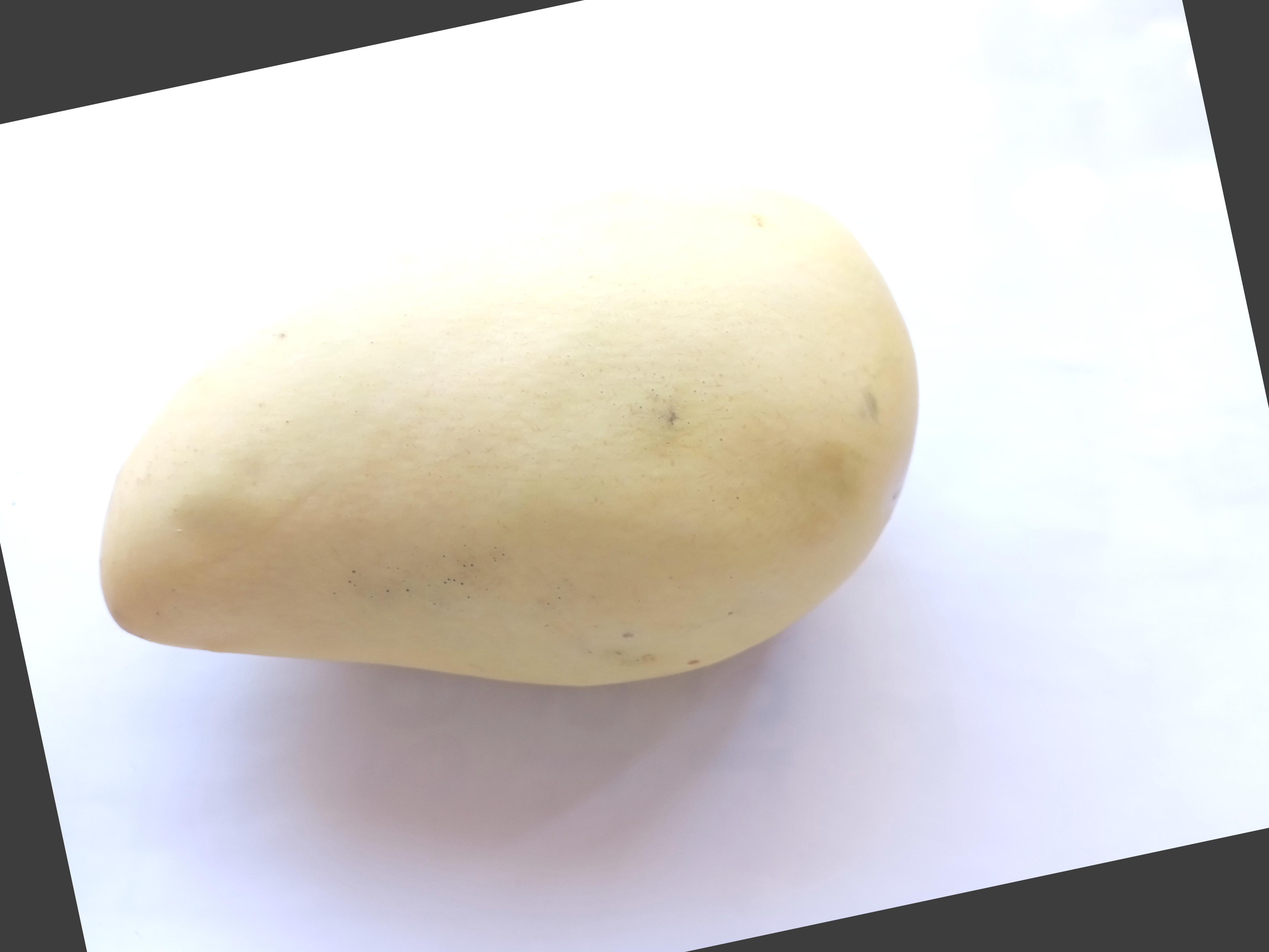Mango Ripe: (0, 223, 955, 952)
